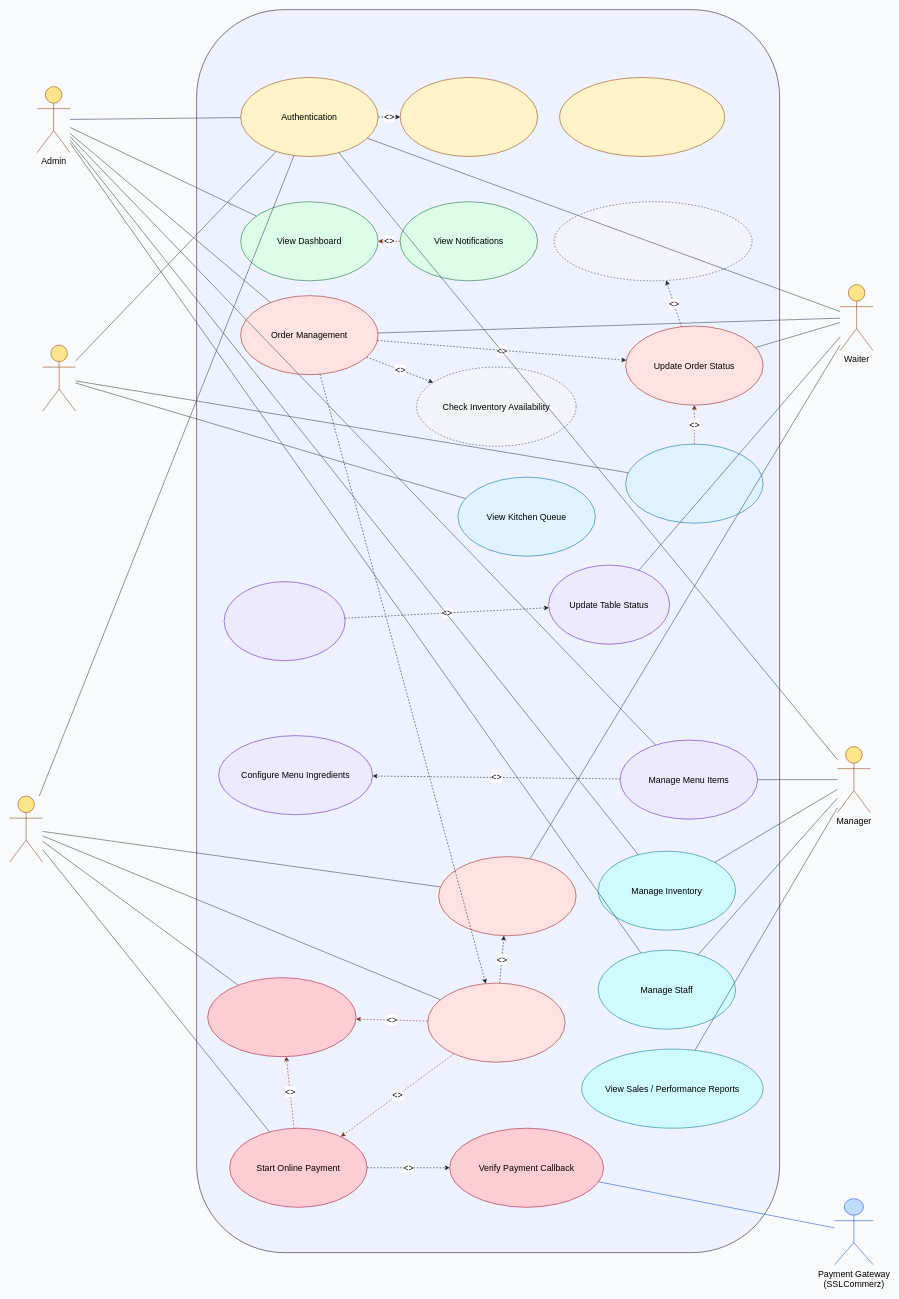
The diagram is 899 pixels wide and 1299 high, and some of its shapes have lost their labels. The box of each missing label's shape, as (x1, y1, x2, y2) in pixels:
Cashier: (9, 796, 43, 862)
Chef: (42, 345, 76, 411)
Deduct Inventory on Served/Completed: (554, 201, 752, 281)
Generate Receipt: (427, 983, 565, 1062)
Login / Logout: (400, 77, 538, 157)
Manage Tables: (224, 581, 345, 661)
Payment Management: (207, 977, 356, 1057)
Update Kitchen Status: (625, 444, 763, 523)
Update Personal Settings: (559, 77, 725, 157)
View / Filter Orders: (438, 856, 576, 936)
